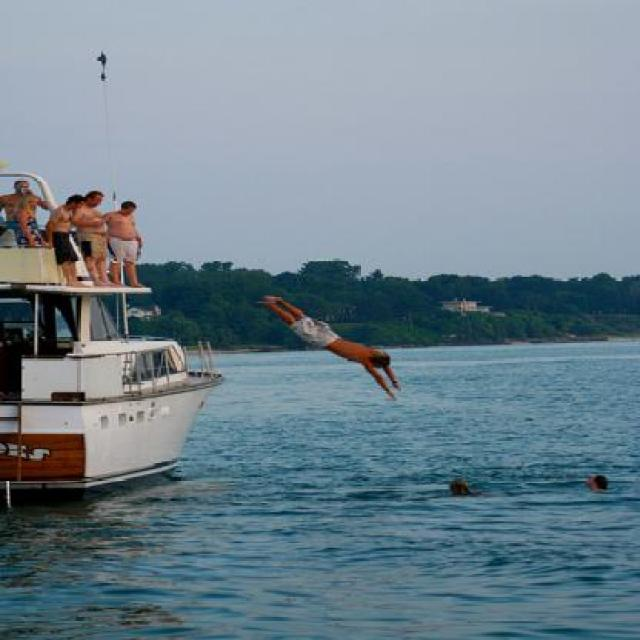ship: (0, 167, 225, 488)
